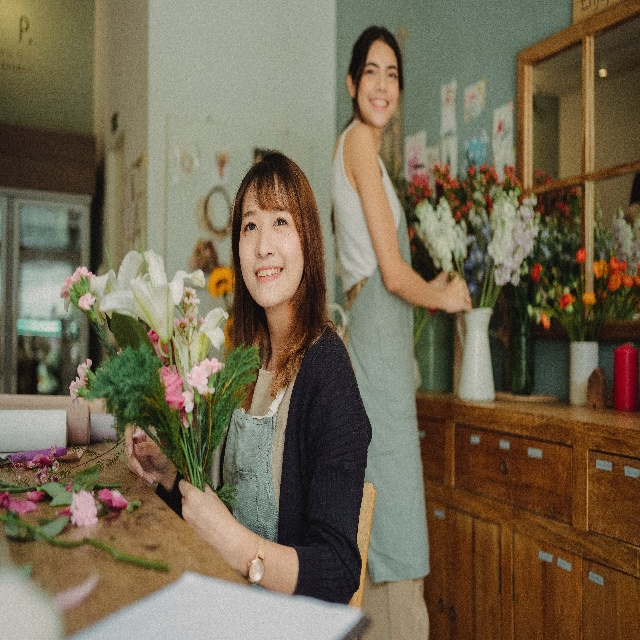Sin_guantes: (179, 474, 250, 568), (124, 422, 177, 490), (443, 273, 472, 314)
